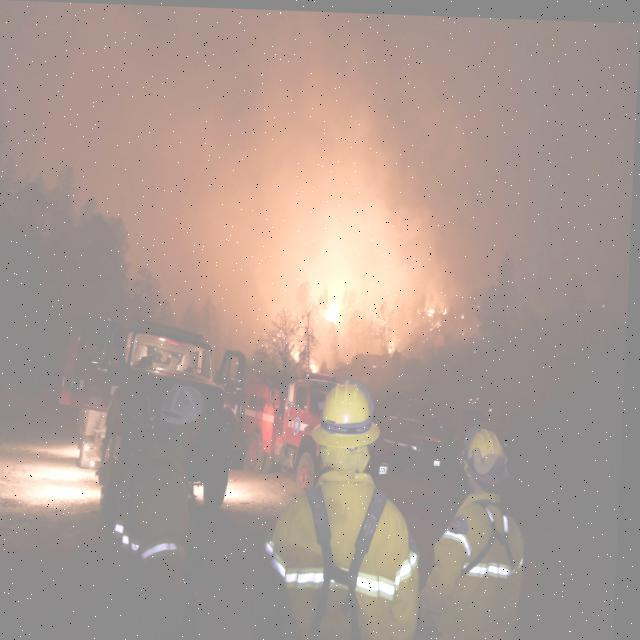Fire: (312, 270, 364, 328)
